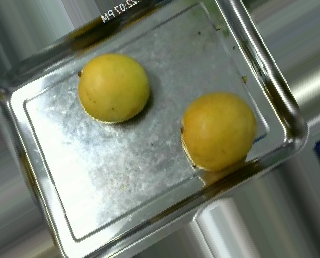Mango: (182, 90, 257, 172), (77, 54, 153, 121)
